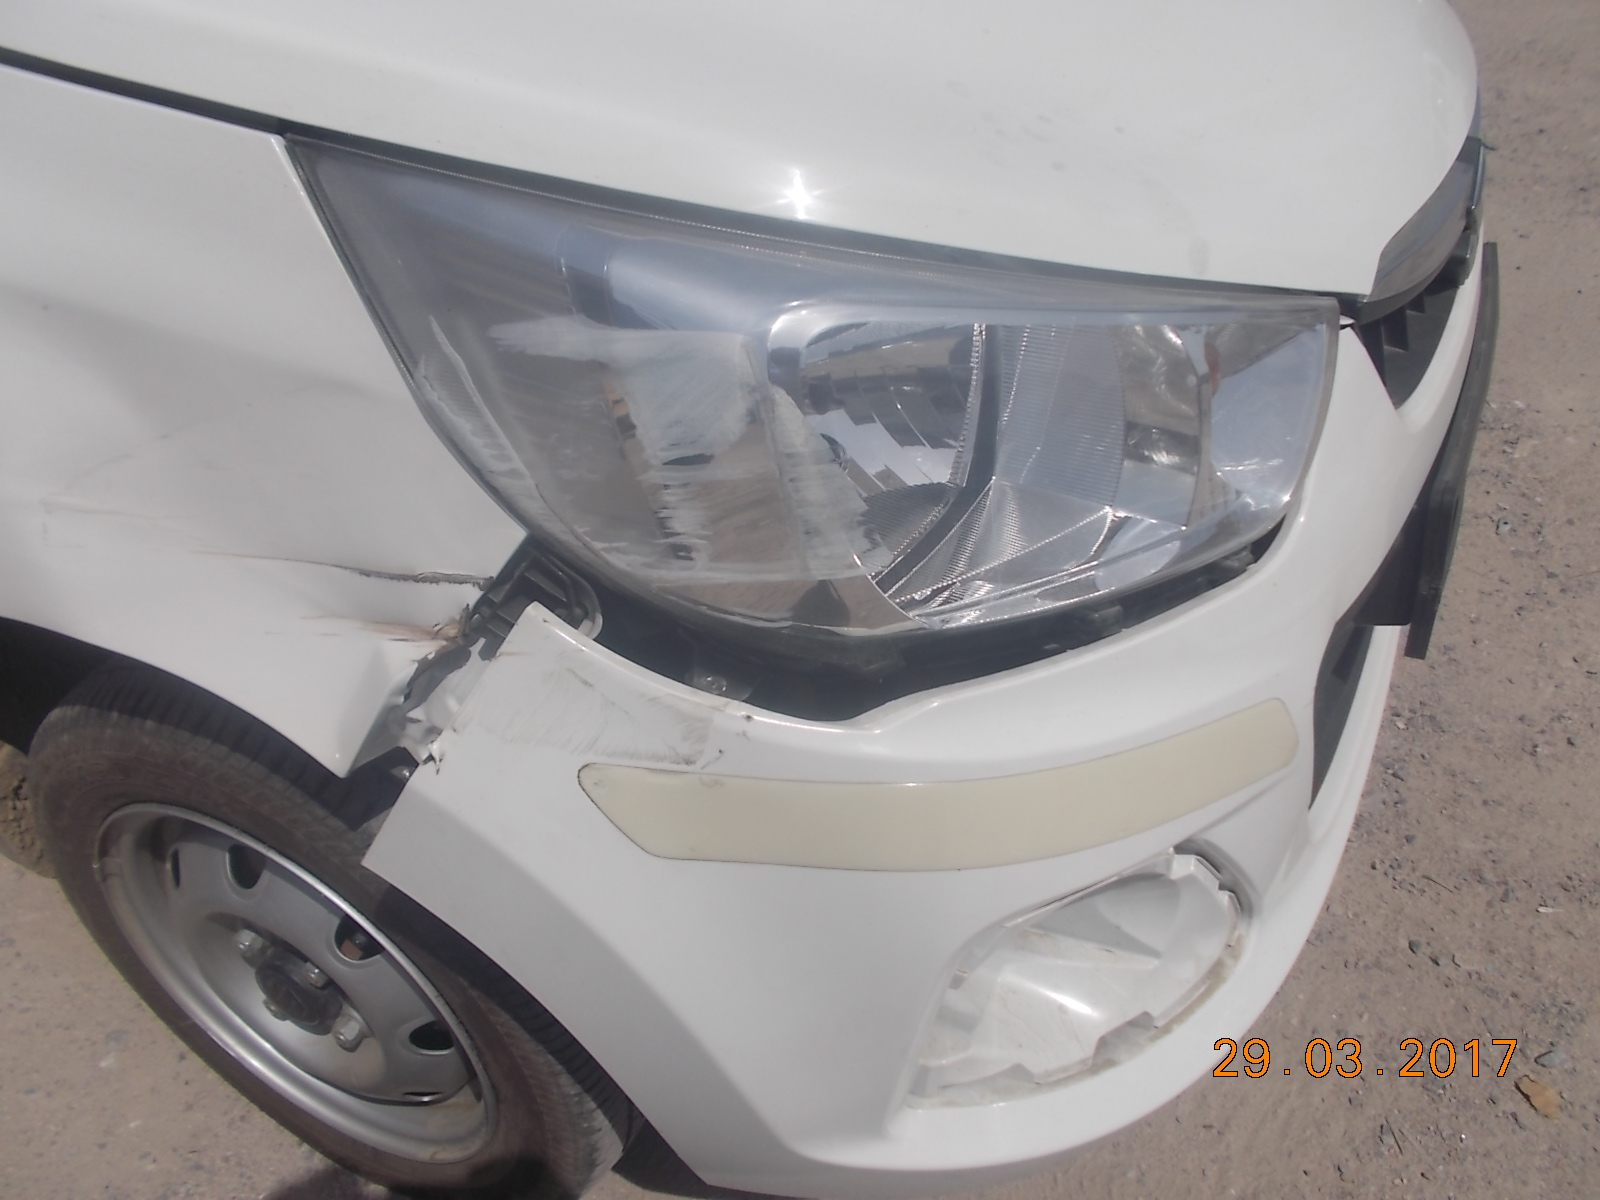Dislocation: (336, 521, 588, 850)
